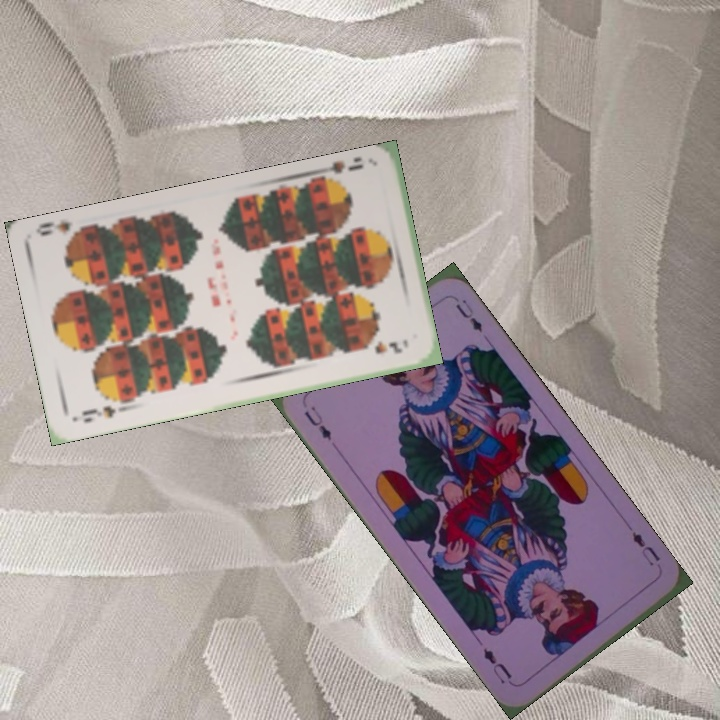EU: (627, 527, 663, 569), (300, 401, 334, 443)
S9: (315, 158, 367, 189), (78, 395, 130, 425)
